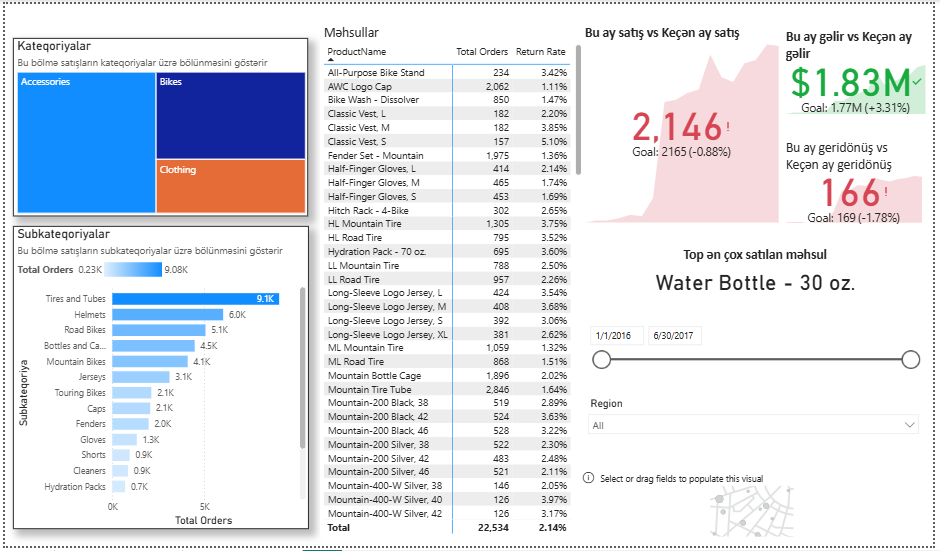

Layout of this report page (visuals, bound fields, positions):
{"tool":"powerbi","page":{"name":"Main","canvas":[1280,720],"ordinal":0},"visuals":[{"type":"treemap","title":"Kateqoriyalar","fields":{"Values":["AW_Sales.Total Orders"],"Group":["AW_Product_Category_Lookup.CategoryName"]},"box":[10.7,19.8,407.3,245.6],"z":0},{"type":"clusteredBarChart","title":"Subkateqoriyalar","fields":{"Category":["AW_Product_Subcategory_Lookup.SubcategoryName"],"Y":["AW_Sales.Total Orders"]},"box":[10.8,278.5,407.7,418.5],"z":1000},{"type":"pivotTable","title":"Məhsullar","fields":{"Values":["AW_Sales.Total Orders","AW_Returns.Return Rate"],"Rows":["AW_Product_Lookup.ProductName"]},"box":[433.8,0,366.2,707.7],"z":2000},{"type":"kpi","title":"Bu ay satış vs Keçən ay satış","fields":{"Indicator":["AW_Sales.Total Orders"],"TrendLine":["AW_Calendar_Lookup.Start of Month"],"Goal":["AW_Sales.Prev Month Orders"]},"box":[794.7,0,277.6,279.2],"z":3000},{"type":"kpi","title":"Bu ay gəlir vs Keçən ay gəlir","fields":{"Indicator":["AW_Sales.Total Revenue"],"Goal":["AW_Sales.Prev Month Revenue"],"TrendLine":["AW_Calendar_Lookup.Start of Month"]},"box":[1072.4,6.1,202.9,123.6],"z":4000},{"type":"kpi","title":"Bu ay geridönüş vs Keçən ay geridönüş","fields":{"Indicator":["AW_Returns.Total Returns"],"TrendLine":["AW_Calendar_Lookup.Start of Month"],"Goal":["AW_Returns.Prev Month Returns"]},"box":[1072.4,158.6,198.3,120.5],"z":5000},{"type":"card","title":"Top ən çox satılan məhsul","fields":{"Values":["Min(AW_Product_Lookup.ProductName)"]},"box":[794.7,306.6,480.5,73.2],"z":6000},{"type":"slicer","fields":{"Values":["AW_Calendar_Lookup.Date"]},"box":[794.7,407.3,475.9,80.8],"z":7000},{"type":"slicer","fields":{"Values":["AW_Territories_Lookup.Region"]},"box":[794.7,511,475.9,91.5],"z":8000},{"type":"map","box":[788.6,611.7,482,96.1],"z":9000}]}

Visuals, with their boxes on the page's 1280x720 design canvas (x1, y1, x2, y2). These are canvas units, not pixel positions in the 940x551 screenshot, which may show the page scaled, cropped or inside an application window:
"Kateqoriyalar" treemap: 11 20 418 265
"Subkateqoriyalar" clusteredBarChart: 11 278 418 697
"Məhsullar" pivotTable: 434 0 800 708
"Bu ay satış vs Keçən ay satış" kpi: 795 0 1072 279
"Bu ay gəlir vs Keçən ay gəlir" kpi: 1072 6 1275 130
"Bu ay geridönüş vs Keçən ay geridönüş" kpi: 1072 159 1271 279
"Top ən çox satılan məhsul" card: 795 307 1275 380
slicer - AW_Calendar_Lookup.Date: 795 407 1271 488
slicer - AW_Territories_Lookup.Region: 795 511 1271 602
map: 789 612 1271 708
